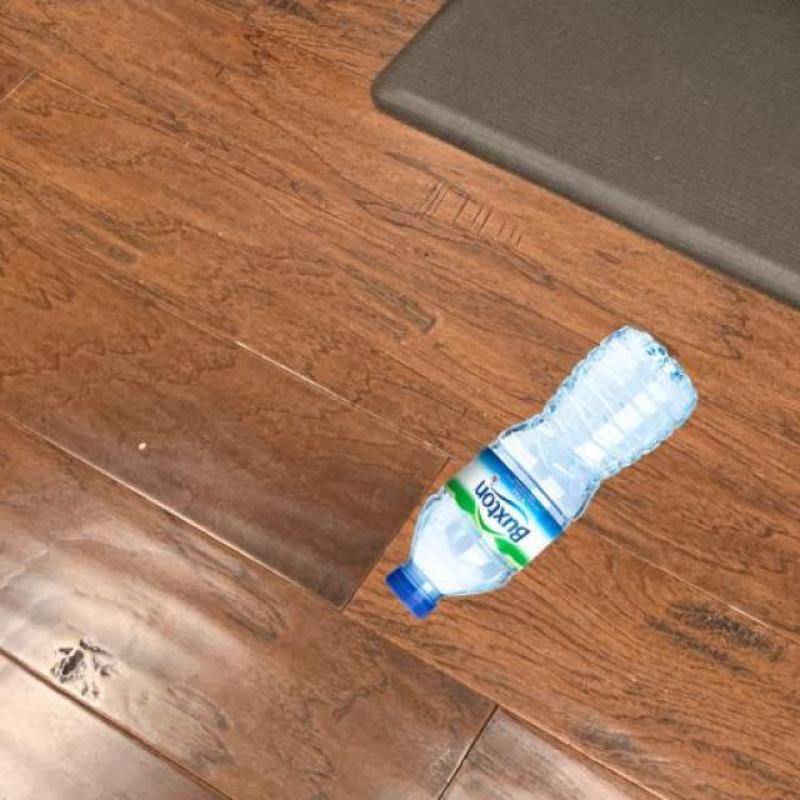botella: (379, 323, 697, 622)
